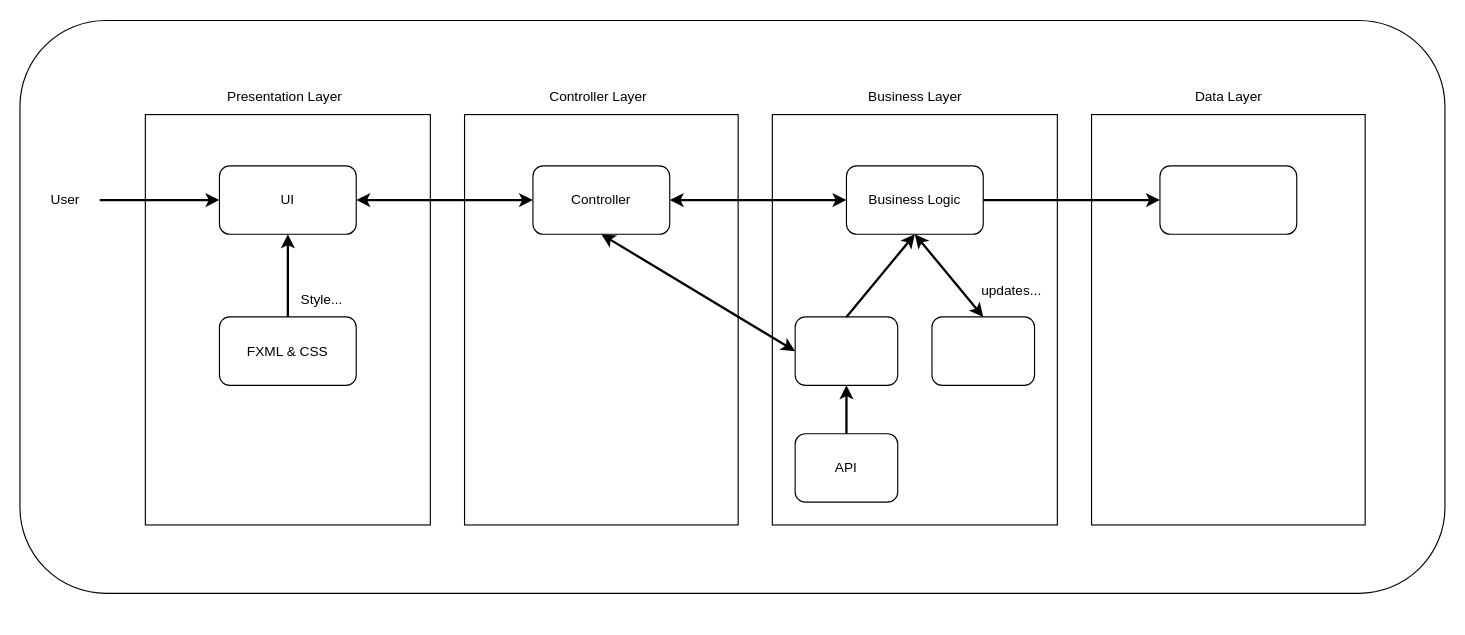
Some shapes in this 1465 by 635 pixel diagram are drawn without their labels. The box of each missing label's shape, as (x1, y1, x2, y2) in pixels:
AI Chatbot: (794, 316, 898, 385)
Database: (1159, 165, 1297, 234)
Pet State Machine: (931, 316, 1035, 385)
